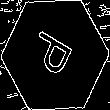P_SE: (28, 27, 82, 83)
